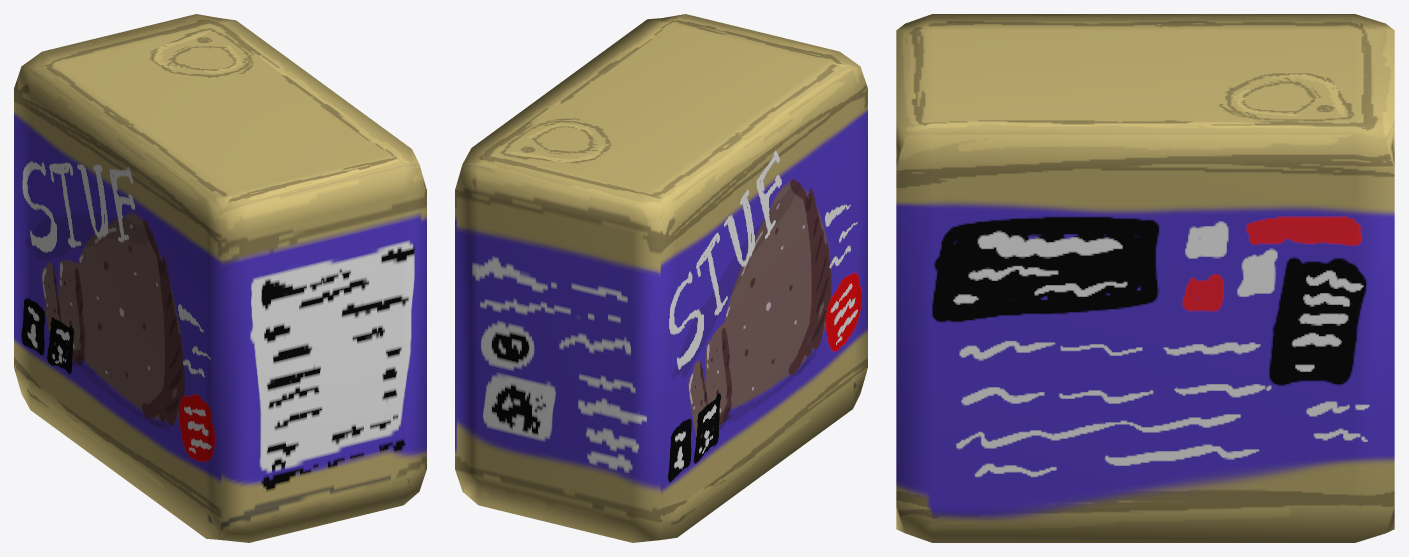
File: stuf.obj
The picture shows the model from 3 angles, left to right: view 1: azimuth 30°, elevation 25°; view 2: azimuth 150°, elevation 25°; view 3: azimuth 270°, elevation 25°; orthographic projection. The views are drawn at different scales.
Visible parts, largest first — view 1: stuf; view 2: stuf; view 3: stuf.
Boxes of the visible parts, box(x1,y1,x2,y2) form: stuf: box(14, 14, 426, 542); stuf: box(455, 14, 867, 542); stuf: box(896, 14, 1394, 542).
Size of the model in its own units: 0.4117 by 0.6496 by 0.7186.
1 material, 1 textured.
